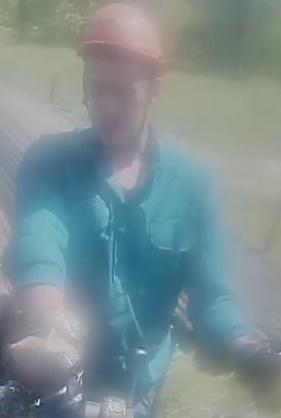gloves: (3, 306, 89, 381), (232, 325, 281, 418)
helmet: (74, 3, 170, 63)
vest: (10, 128, 209, 377)
